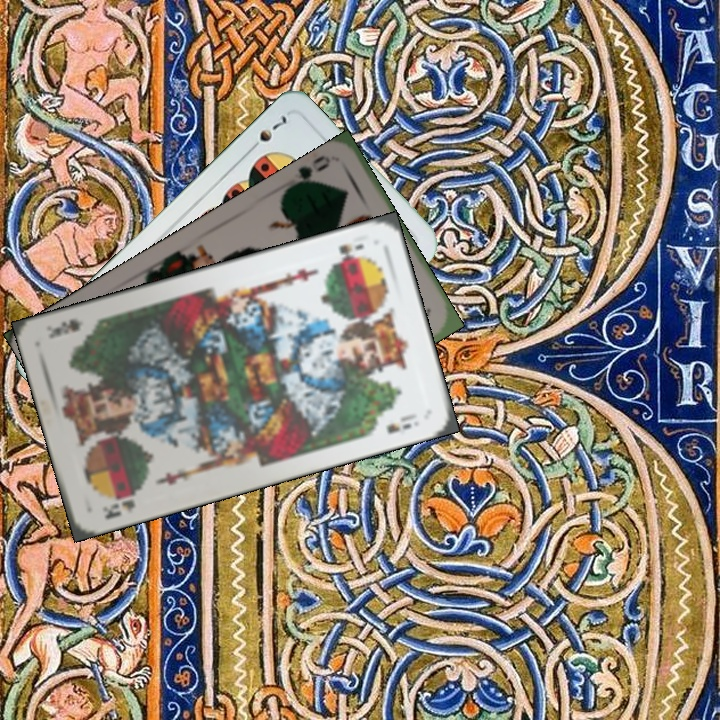GO: (284, 151, 333, 192)
S7: (243, 111, 290, 155)
SK: (98, 492, 138, 522), (335, 239, 367, 262)
